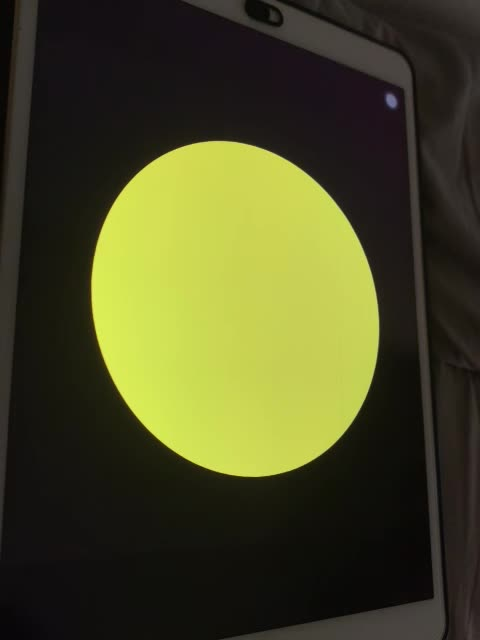left: (83, 121, 393, 500)
